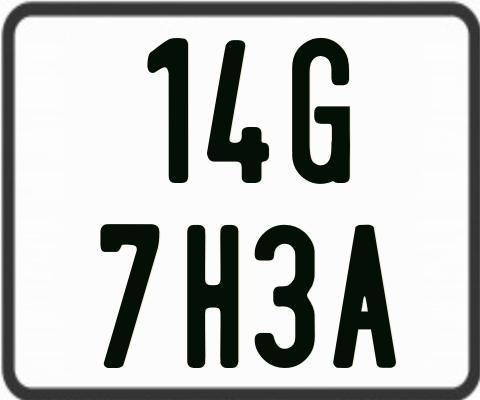1: (144, 38, 186, 189)
3: (253, 222, 315, 365)
4: (204, 40, 266, 189)
7: (99, 223, 163, 372)
A: (333, 225, 400, 369)
G: (290, 36, 351, 188)
H: (186, 222, 239, 368)
